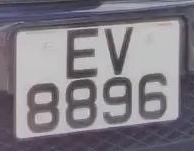6: (130, 68, 173, 124)
8: (21, 73, 65, 138), (60, 74, 104, 132)
9: (97, 74, 137, 129)
E: (59, 23, 104, 81)
V: (99, 23, 138, 78)
